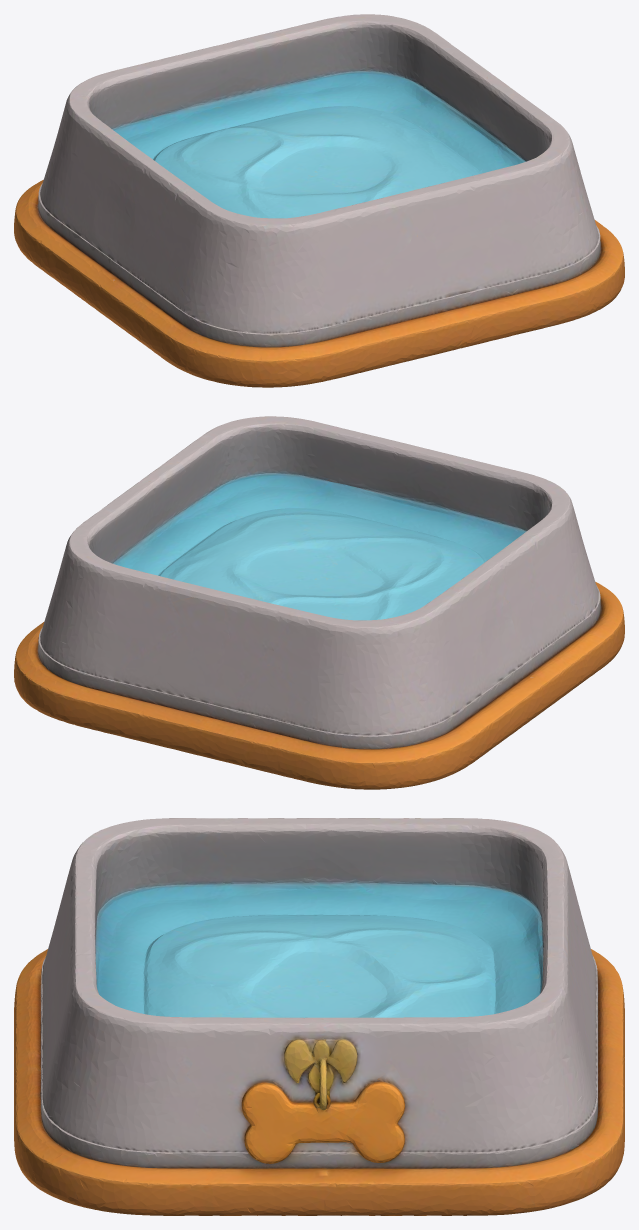
Rendered from bowl_water_2.glb.
3 views of the same model, one above another, from view 1: azimuth 30°, elevation 25°; view 2: azimuth 150°, elevation 25°; view 3: azimuth 270°, elevation 25° (orthographic). The views are drawn at different scales.
Parts seen in each view (by area): view 1: tripo_node_21ef4de7-78fe-42ce-a83e-26eabff0b463; view 2: tripo_node_21ef4de7-78fe-42ce-a83e-26eabff0b463; view 3: tripo_node_21ef4de7-78fe-42ce-a83e-26eabff0b463.
Boxes of the visible parts, x1=… form: tripo_node_21ef4de7-78fe-42ce-a83e-26eabff0b463: x1=14, y1=14, x2=624, y2=387; tripo_node_21ef4de7-78fe-42ce-a83e-26eabff0b463: x1=14, y1=416, x2=624, y2=789; tripo_node_21ef4de7-78fe-42ce-a83e-26eabff0b463: x1=14, y1=818, x2=624, y2=1215.
Bounding box in the file's own units: 1 × 0.3059 × 1.
Materials: 1 (1 with a texture image).
